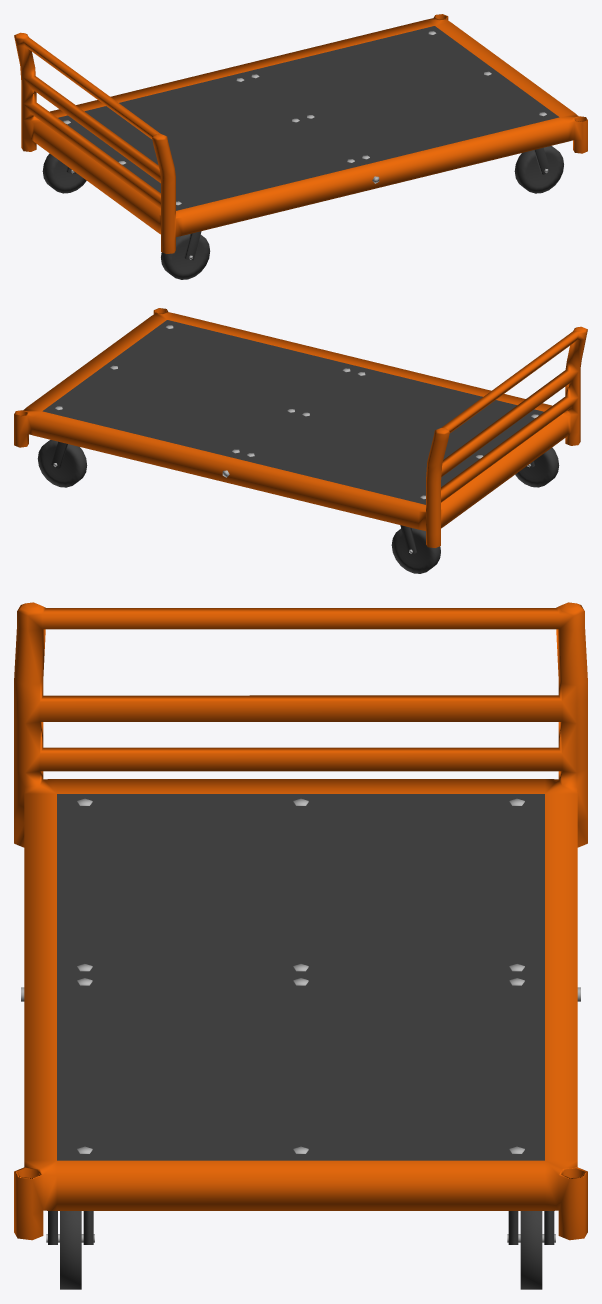
The model's file is UtilityCart.fbx.
The picture shows the model from 3 angles, top to bottom: view 1: azimuth 30°, elevation 25°; view 2: azimuth 150°, elevation 25°; view 3: azimuth 270°, elevation 25°; orthographic projection. The views are drawn at different scales.
Visible parts, largest first — view 1: UtilityCart; view 2: UtilityCart; view 3: UtilityCart.
Boxes of the visible parts, left/top/right/bottom form: UtilityCart: left=14, top=14, right=587, bottom=279; UtilityCart: left=14, top=308, right=587, bottom=573; UtilityCart: left=14, top=602, right=587, bottom=1289.
Bounding box in the file's own units: 311 × 109 × 183.
